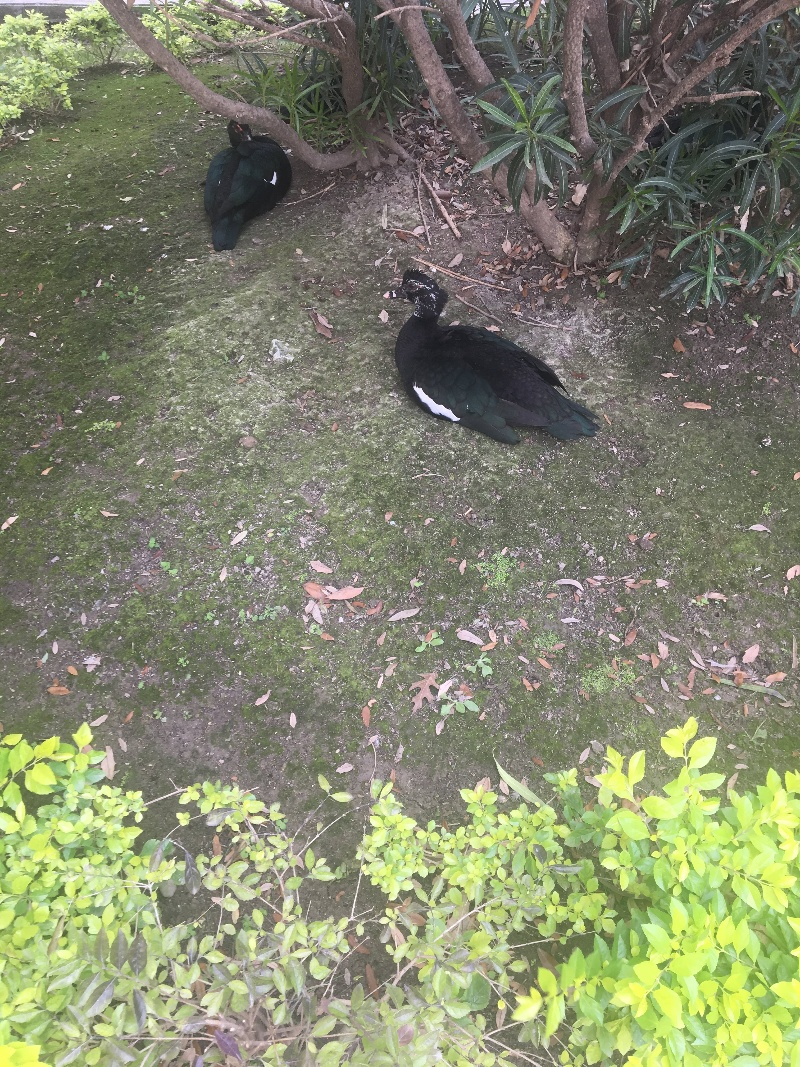pato: (388, 267, 573, 450), (208, 119, 293, 247)
